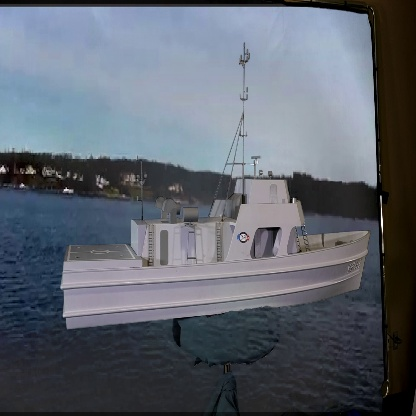YP689: (60, 43, 372, 333)
